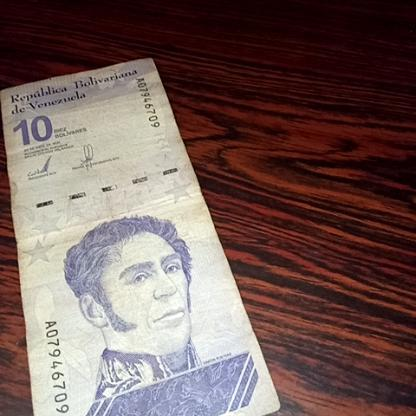vef_front: (0, 56, 298, 416)
